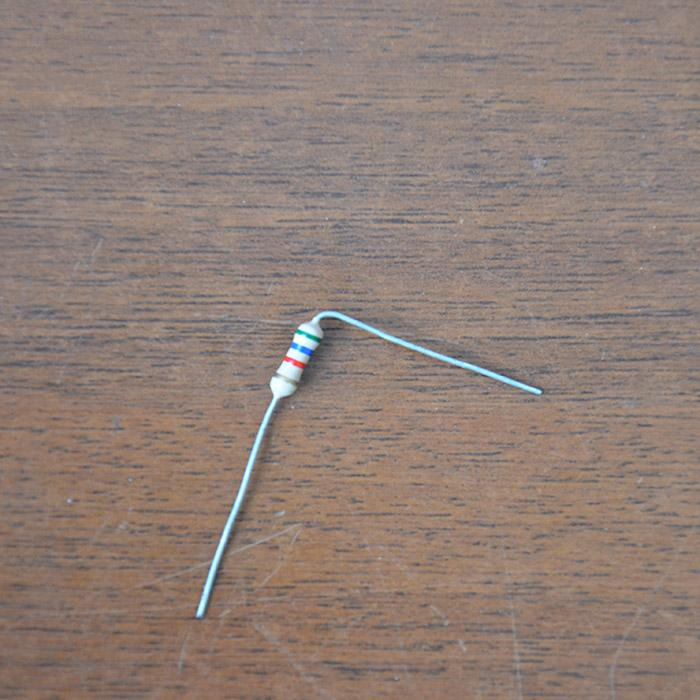resistor: (273, 319, 323, 395)
